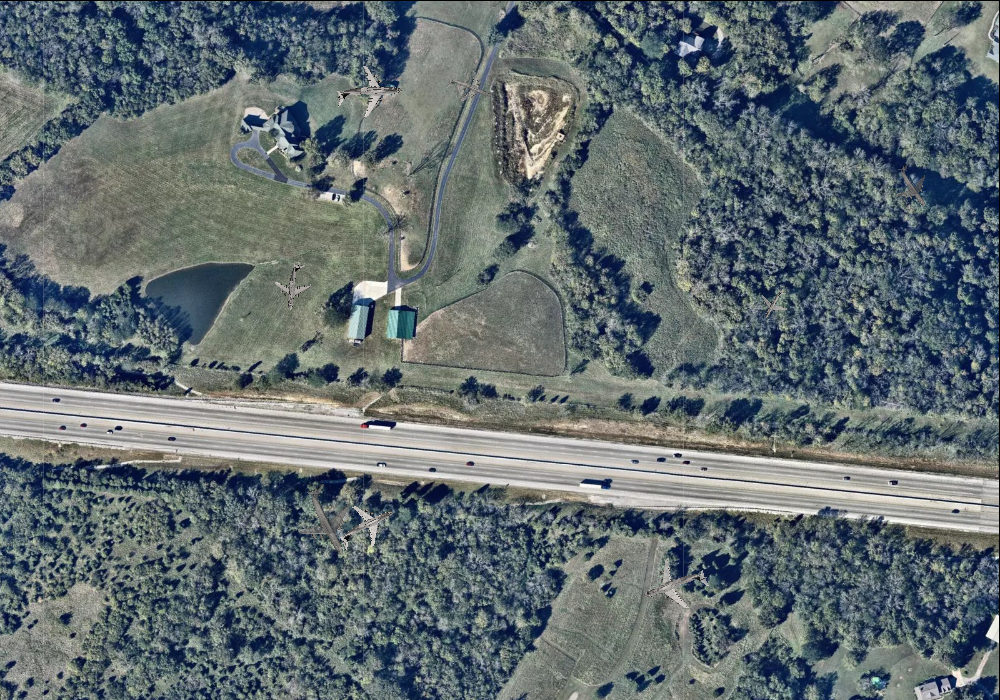plane: (280, 472, 373, 568), (632, 545, 717, 628), (328, 490, 405, 564), (335, 62, 402, 124), (883, 154, 944, 216), (439, 60, 498, 116), (270, 260, 317, 312), (753, 282, 795, 325)
